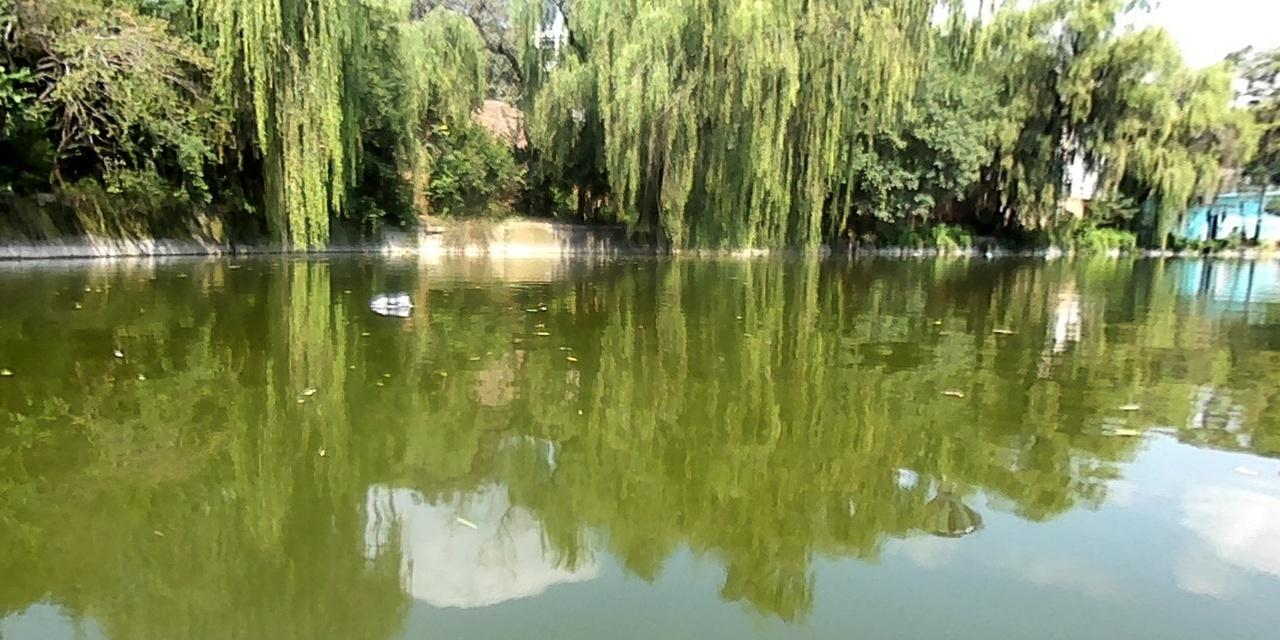bottle: (366, 292, 411, 308)
